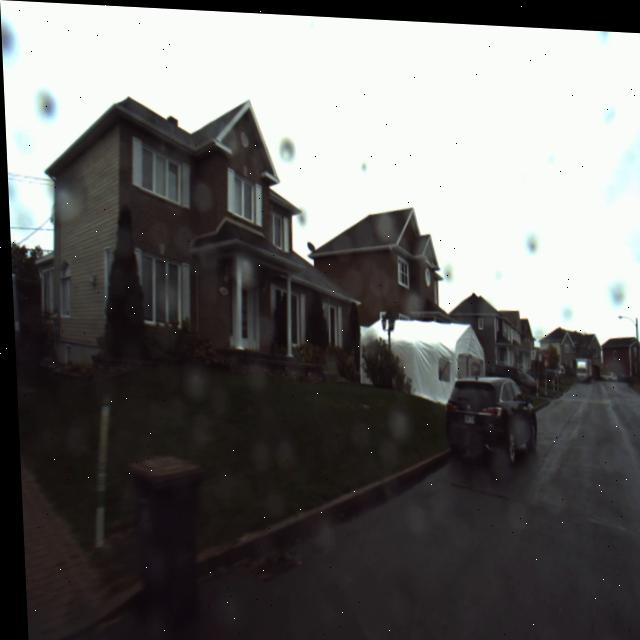car: (437, 343, 544, 476)
